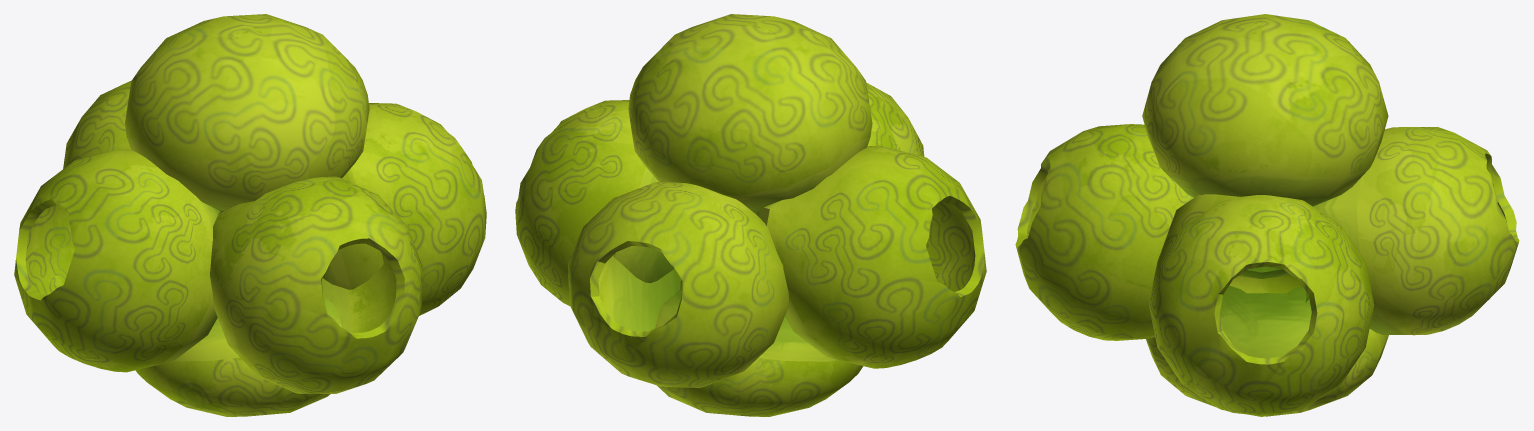
The model's file is shockguppy_nest_pivot_fix.fbx.
3 renders of one model, left to right at view 1: azimuth 30°, elevation 25°; view 2: azimuth 150°, elevation 25°; view 3: azimuth 270°, elevation 25°, orthographic.
Parts seen in each view (by area): view 1: Sphere_4; view 2: Sphere_4; view 3: Sphere_4.
Boxes of the visible parts, <box> form: Sphere_4: <box>14,14,486,416</box>; Sphere_4: <box>515,14,986,416</box>; Sphere_4: <box>1015,14,1519,416</box>.
Size of the model in its own units: 1027 by 817 by 1019.
